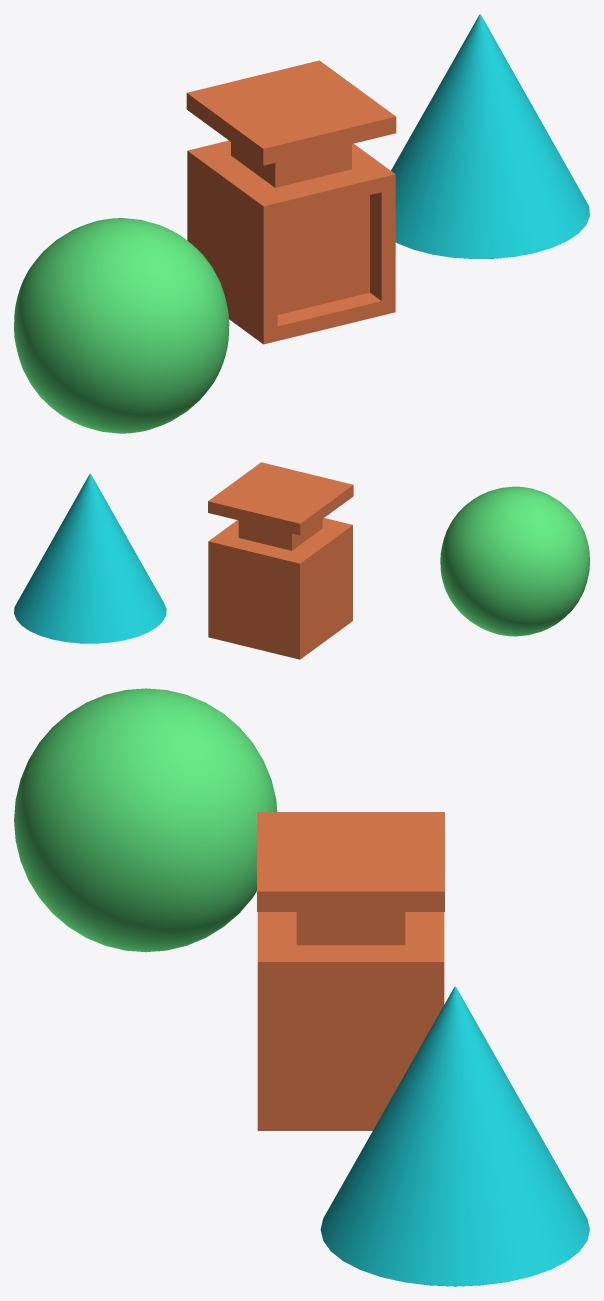
Rendered from simple_raytracer_test.glb.
3 renders of one model, top to bottom at view 1: azimuth 30°, elevation 25°; view 2: azimuth 150°, elevation 25°; view 3: azimuth 270°, elevation 25°, orthographic. The views are drawn at different scales.
Parts seen in each view (by area): view 1: Cube, Icosphere, Cone; view 2: Cube, Icosphere, Cone; view 3: Cube, Icosphere, Cone.
Boxes of the visible parts, x1,y1,x2,y2 form: Cube: (186,60,396,344); Icosphere: (14,218,229,433); Cone: (391,14,589,258); Cube: (208,462,353,659); Icosphere: (440,486,589,636); Cone: (14,473,166,643); Cube: (257,812,444,1130); Icosphere: (14,688,277,952); Cone: (320,986,589,1286).
Size of what is drawn, in the model's own units: 7.07 by 1.99 by 4.28.
